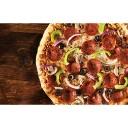pepperonipizza: (37, 22, 128, 103)
